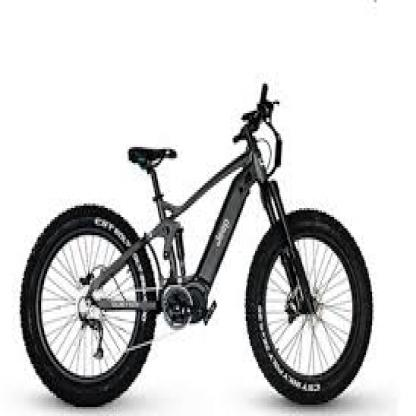Bike: (22, 76, 374, 411)
